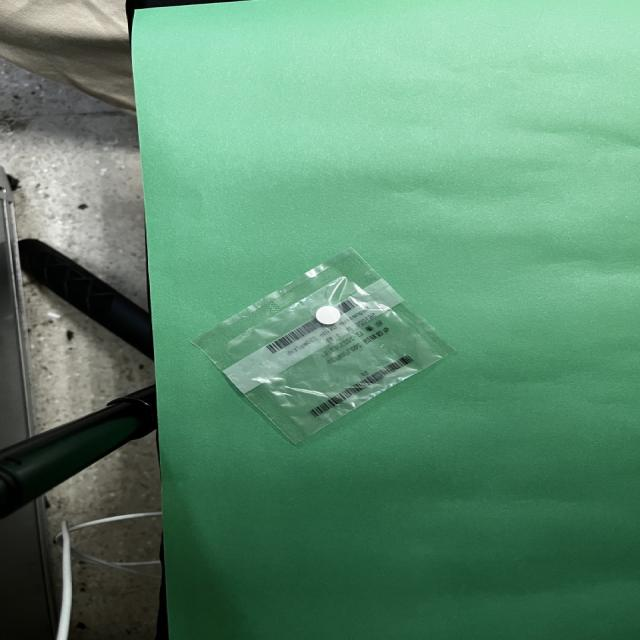Other Objects: (194, 250, 452, 444)
